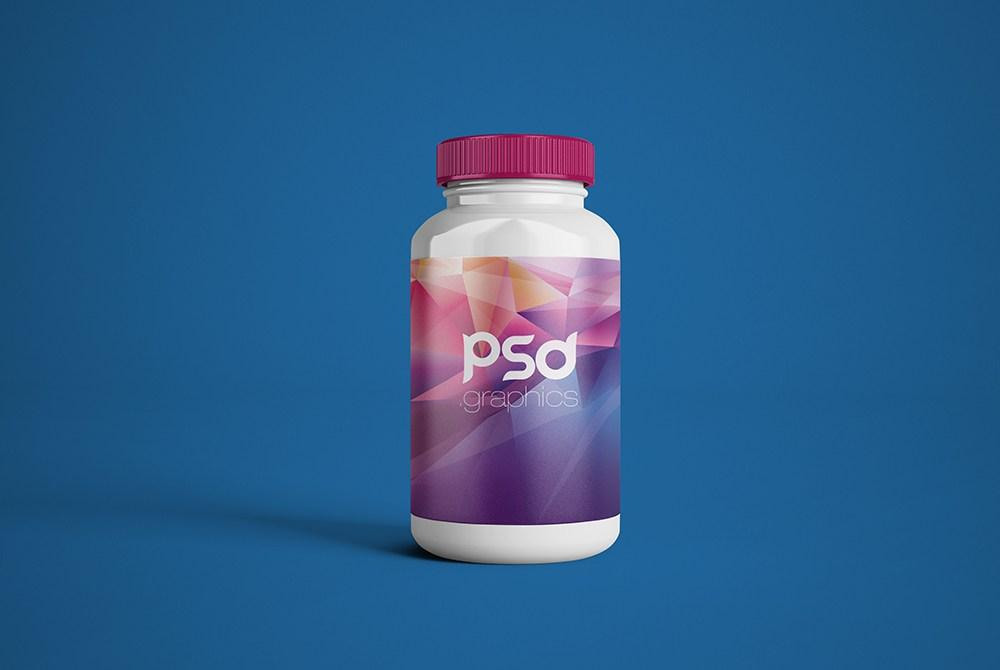jar: (409, 136, 622, 566)
